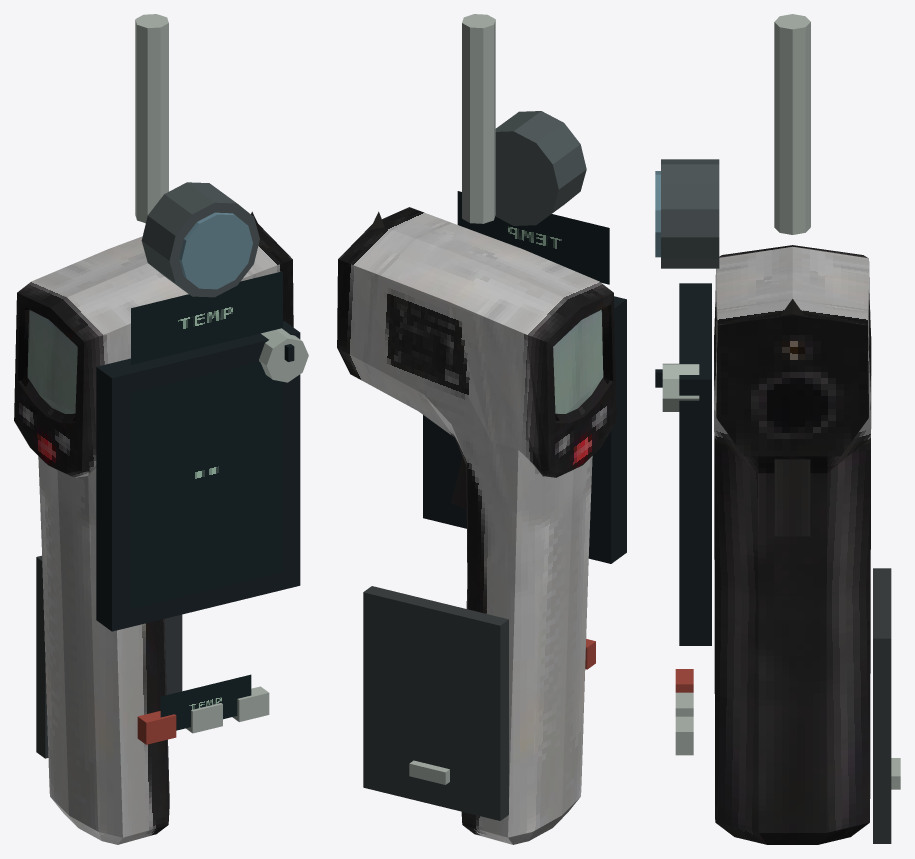
File: blender_thermometer_2.glb
3 views of the same model, side by side, from view 1: azimuth 30°, elevation 25°; view 2: azimuth 150°, elevation 25°; view 3: azimuth 270°, elevation 25° (orthographic). The views are drawn at different scales.
Parts seen in each view (by area): view 1: blender_thermometer_2; view 2: blender_thermometer_2; view 3: blender_thermometer_2.
Boxes of the visible parts, x1,y1,x2,y2 form: blender_thermometer_2: [14, 14, 308, 844]; blender_thermometer_2: [337, 14, 626, 844]; blender_thermometer_2: [655, 14, 900, 844].
Size of the model in its own units: 0.07 by 0.25 by 0.067.
1 material, 1 textured.
